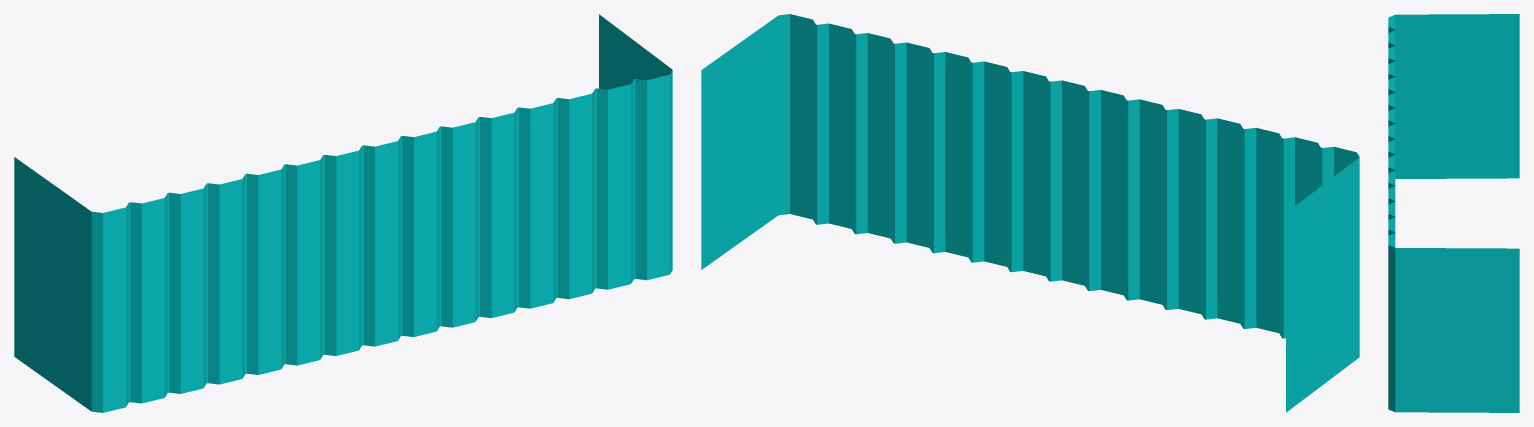
The model's file is BooksMultiple.fbx.
The picture shows the model from 3 angles, left to right: view 1: azimuth 30°, elevation 25°; view 2: azimuth 150°, elevation 25°; view 3: azimuth 270°, elevation 25°; orthographic projection. The views are drawn at different scales.
Visible parts, largest first — view 1: Booksforshelf_mesh; view 2: Booksforshelf_mesh; view 3: Booksforshelf_mesh.
Part boxes in pixels (x1,y1,x2,y2): Booksforshelf_mesh: [14, 14, 672, 412]; Booksforshelf_mesh: [701, 14, 1359, 412]; Booksforshelf_mesh: [1388, 14, 1519, 412].
Bounding box in the file's own units: 74.91 × 24.49 × 17.74.
